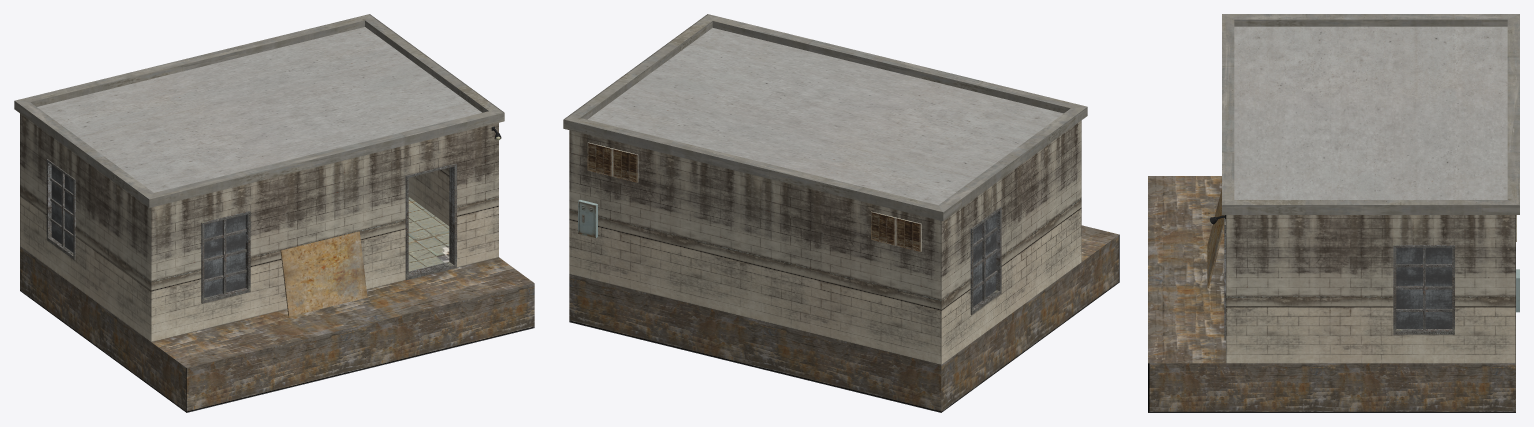
Rendered from CementShack.obj.
3 views of the same model, side by side, from view 1: azimuth 30°, elevation 25°; view 2: azimuth 150°, elevation 25°; view 3: azimuth 270°, elevation 25° (orthographic). The views are drawn at different scales.
Parts seen in each view (by area): view 1: Building, plywood.001, Window, WindowFrame, DoorFrame, WindowFrame.001, Window.001; view 2: Building, WindowFrame.001, Vent.001, Window.001, Vent, fusebox; view 3: Building, Window.002, WindowFrame.002, plywood.001.
Boxes of the visible parts, x1,y1,x2,y2 form: Building: (14, 14, 534, 412); plywood.001: (280, 231, 367, 316); Window: (204, 214, 245, 297); WindowFrame: (201, 211, 250, 303); DoorFrame: (405, 163, 456, 280); WindowFrame.001: (46, 159, 75, 259); Window.001: (51, 165, 73, 252); Building: (563, 14, 1119, 412); WindowFrame.001: (970, 207, 1001, 314); Vent.001: (587, 142, 638, 182); Window.001: (973, 213, 996, 306); Vent: (871, 211, 921, 251); fusebox: (578, 199, 597, 237); Building: (1148, 14, 1519, 412); Window.002: (1396, 247, 1452, 328); WindowFrame.002: (1393, 245, 1454, 334); plywood.001: (1207, 189, 1224, 287).
Bounding box in the file's own units: 14.44 × 7.38 × 11.86.
3 materials, 3 textured.
